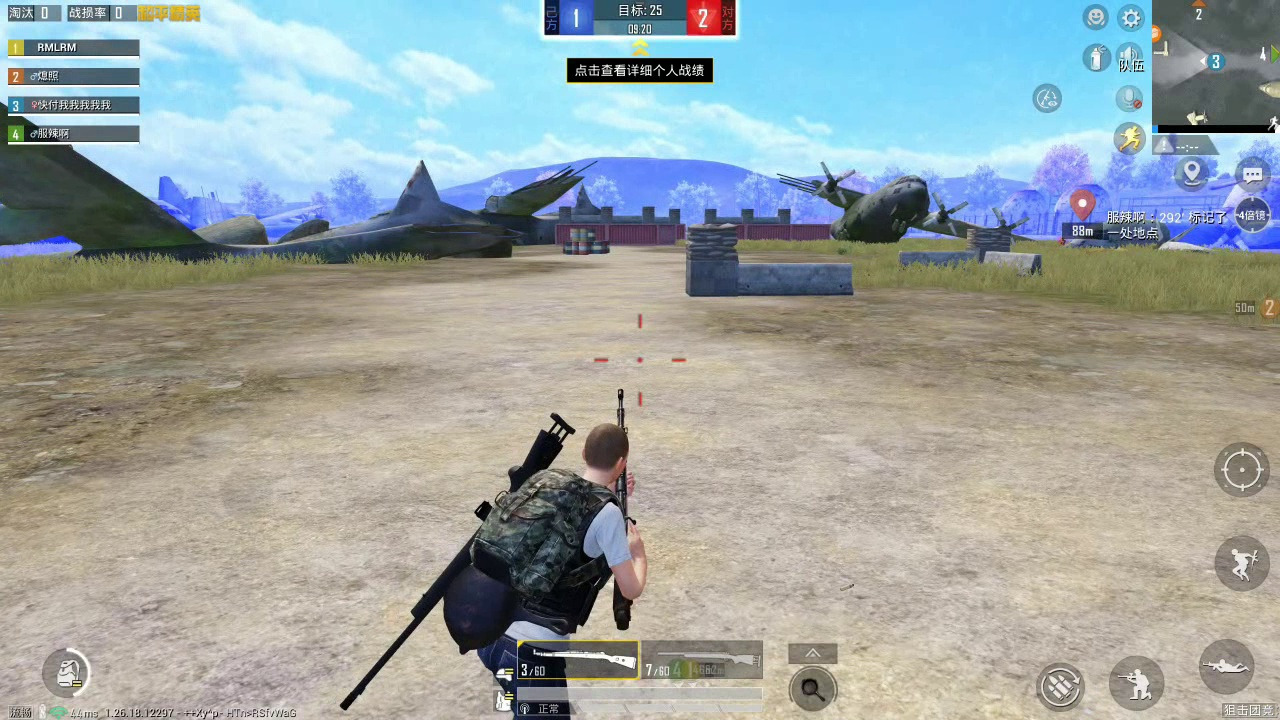enemy: (1057, 237, 1066, 246)
